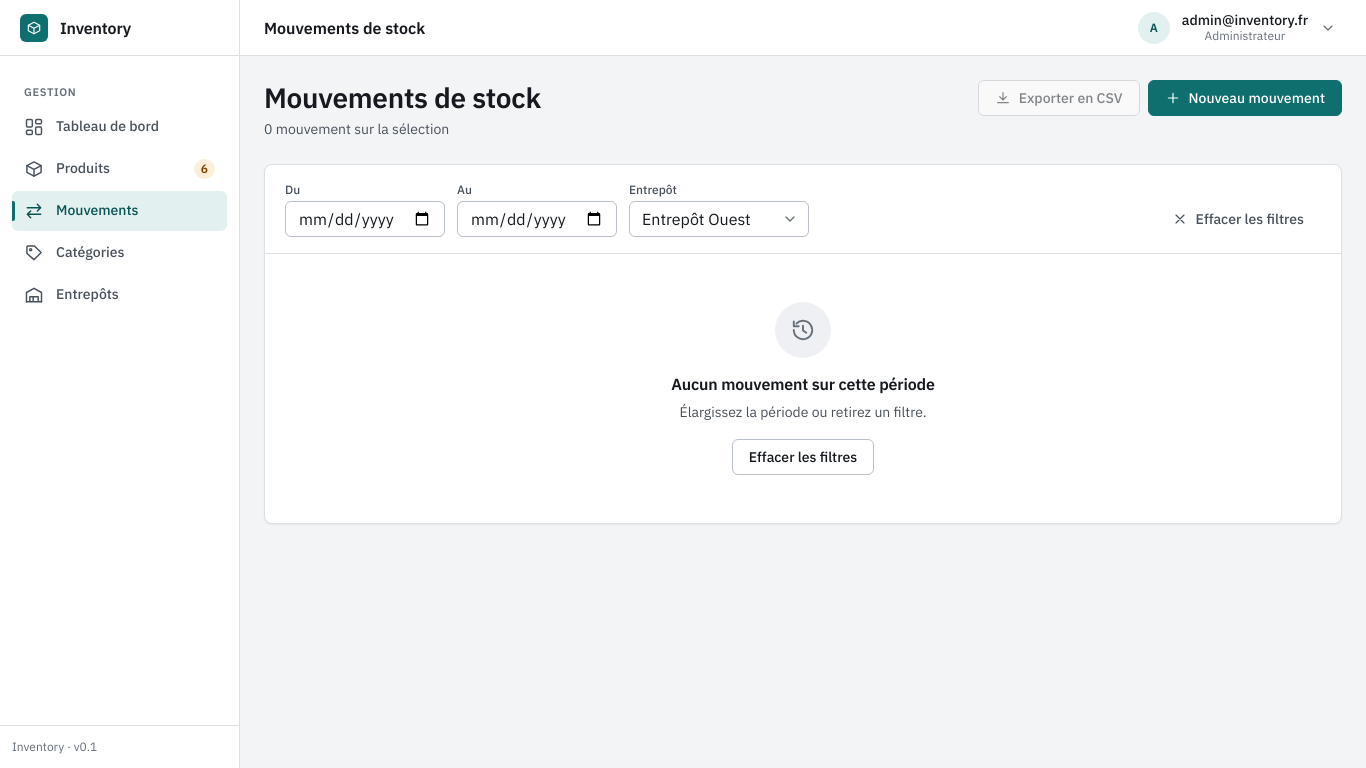
Test: MovementsPage › suggests removing the filters when nothing matches
Expected: the heading "Mouvements de stock" is shown, x1=264 y1=80 x2=541 y2=115
Expected: the text "0 mouvement sur la sélection" is shown, x1=264 y1=120 x2=449 y2=138
Click the button "Effacer les filtres" below "Aucun mouvement sur cette période" at x=803, y=457, box x1=732 y1=439 x2=874 y2=475
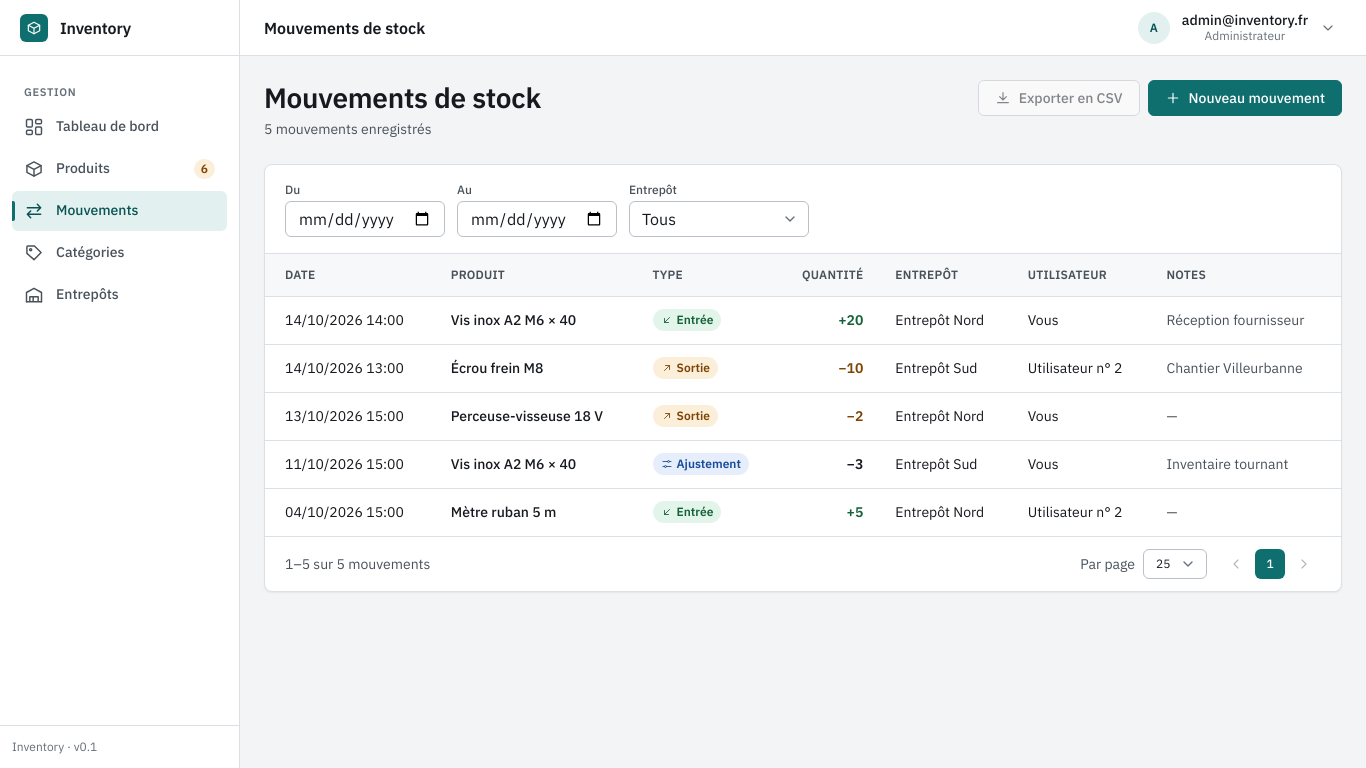
Result: the text "5 mouvements enregistrés" is shown at x1=264 y1=120 x2=432 y2=138
